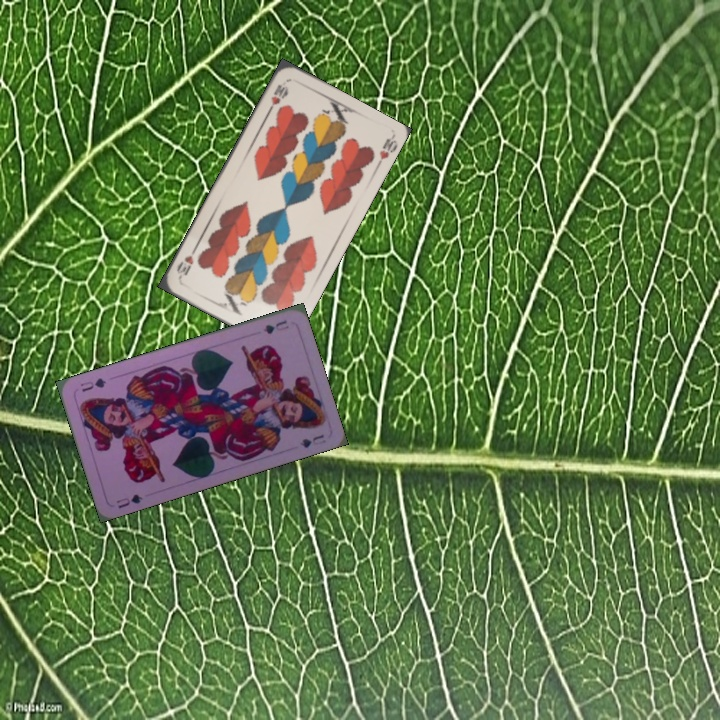GU: (112, 490, 145, 511), (260, 316, 291, 337)
H10: (264, 80, 291, 115)
